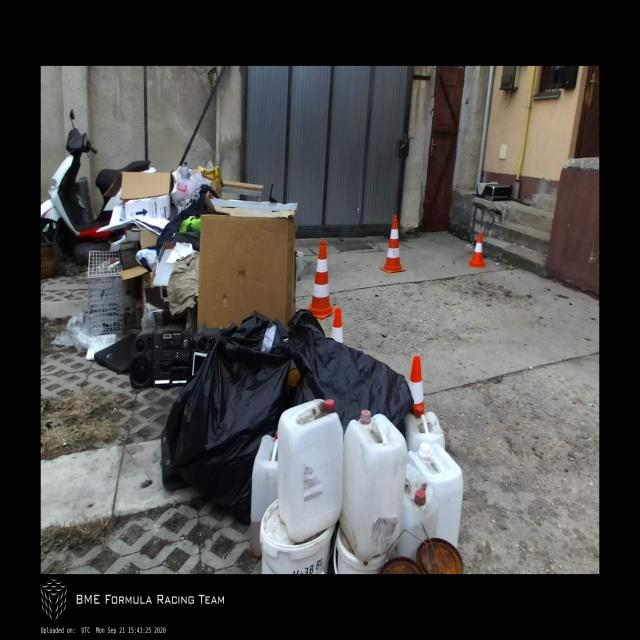large_orange_cone: (308, 240, 335, 321), (380, 216, 405, 273), (408, 356, 425, 412), (328, 307, 344, 345)
orange_cone: (468, 232, 485, 268)
